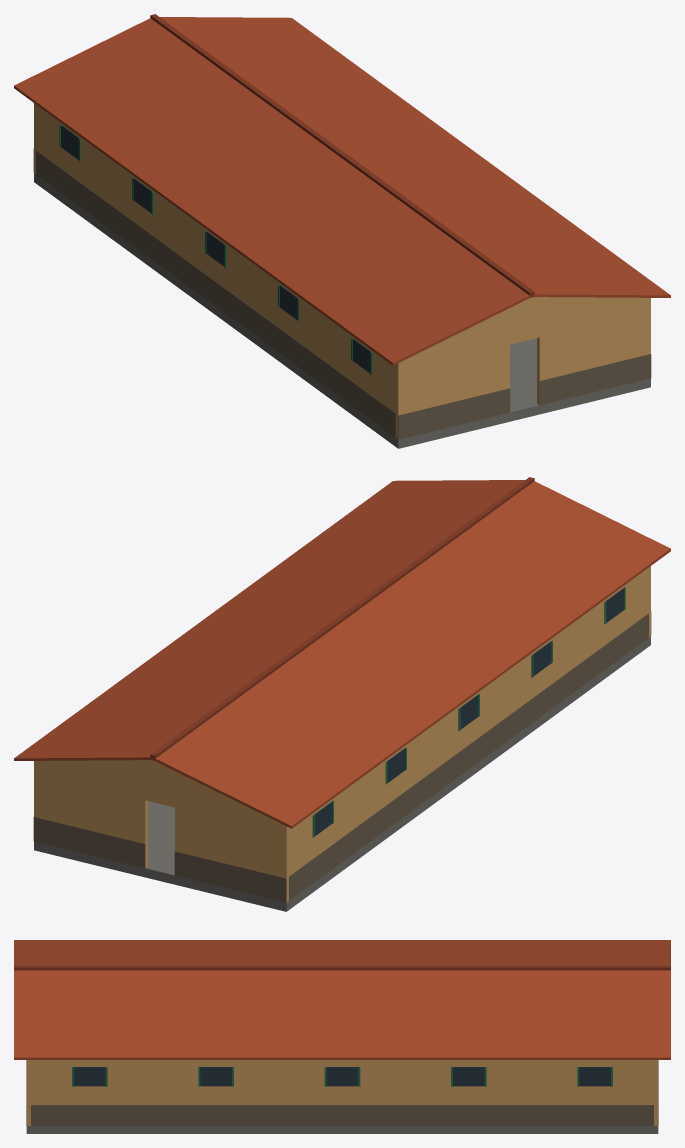
File: alojamento_a.glb
The picture shows the model from 3 angles, top to bottom: view 1: azimuth 30°, elevation 25°; view 2: azimuth 150°, elevation 25°; view 3: azimuth 270°, elevation 25°; orthographic projection. The views are drawn at different scales.
Parts seen in each view (by area): view 1: alojamento_a; view 2: alojamento_a; view 3: alojamento_a.
Part boxes in pixels (x1=…): alojamento_a: x1=14, y1=14, x2=670, y2=448; alojamento_a: x1=14, y1=477, x2=670, y2=911; alojamento_a: x1=14, y1=940, x2=670, y2=1133.
Bounding box in the file's own units: 13.2 × 5.96 × 31.2.
